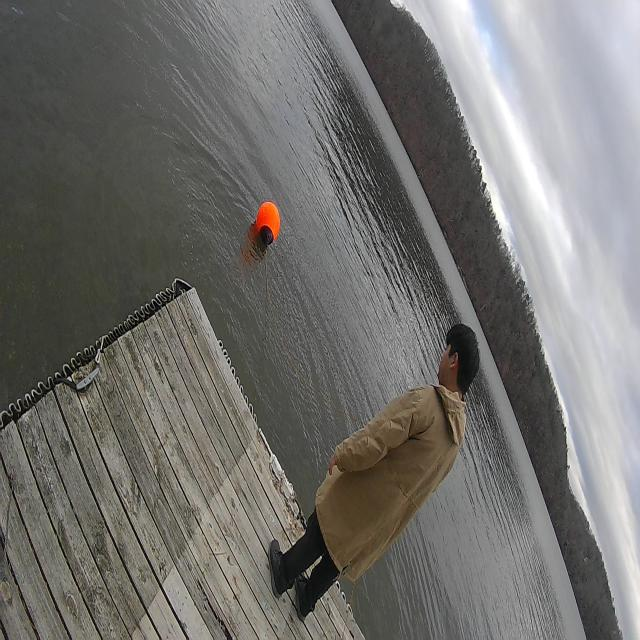Buoy: (254, 198, 285, 257)
